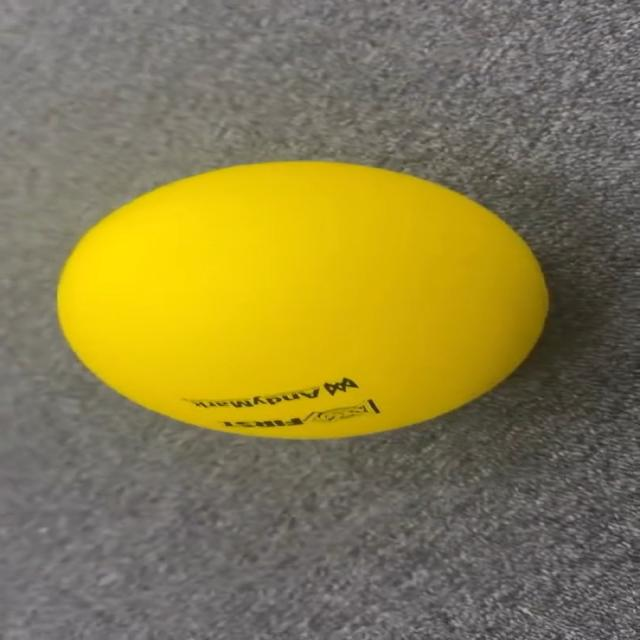Fuels: (58, 164, 548, 432)
